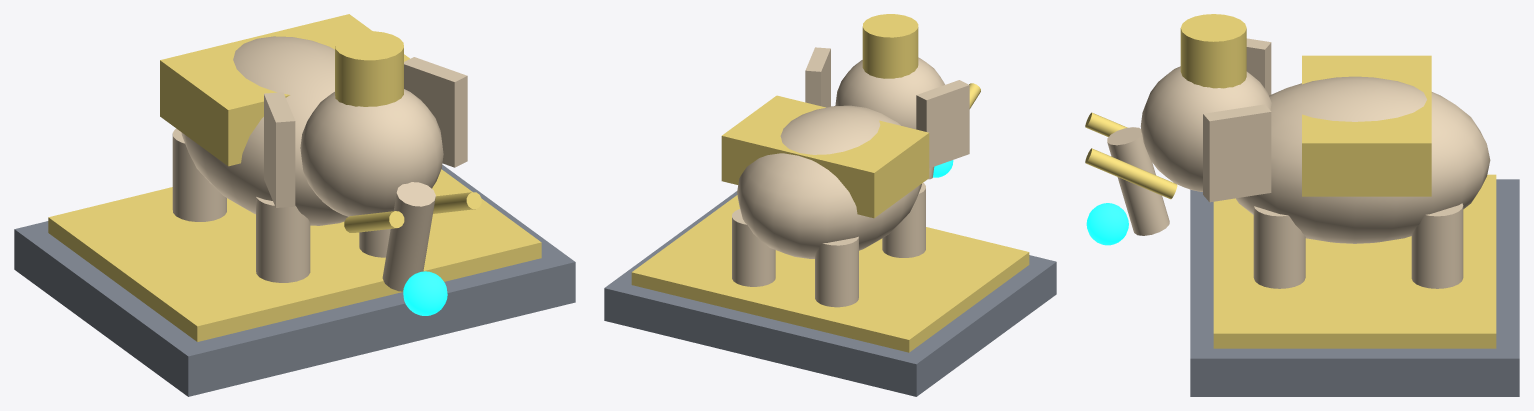
File: Celestial_Airavata_Sculpture.glb
3 views of the same model, side by side, from view 1: azimuth 30°, elevation 25°; view 2: azimuth 150°, elevation 25°; view 3: azimuth 270°, elevation 25° (orthographic). The views are drawn at different scales.
Visible parts, largest first — view 1: LotusTrim, Plinth, Head, Torso, Caparison, Crown, EarR, Leg_-0.024_0.032, Trunk, EarL, Leg_-0.024_-0.035, LotusBud (+3 smaller); view 2: LotusTrim, Plinth, Torso, Caparison, Head, EarL, Crown, Leg_-0.024_-0.035, Leg_0.024_-0.035, Leg_-0.024_0.032, EarR; view 3: LotusTrim, Plinth, Torso, Caparison, Head, EarR, Crown, Leg_0.024_-0.035, Leg_0.024_0.032, Trunk, TuskR, LotusBud (+2 smaller).
Boxes of the visible parts, x1,y1,x2,y2 form: LotusTrim: (48,169,541,341); Plinth: (14,165,575,396); Head: (300,89,443,216); Torso: (181,36,347,225); Caparison: (160,14,409,166); Crown: (335,31,403,106); EarR: (404,57,467,167); Leg_-0.024_0.032: (256,197,310,282); Trunk: (382,182,435,291); EarL: (264,92,295,207); Leg_-0.024_-0.035: (172,128,226,221); LotusBud: (403,271,447,315); LotusTrim: (631,195,1029,352); Plinth: (604,191,1056,396); Torso: (737,105,921,258); Caparison: (721,95,929,218); Head: (835,57,944,129); EarL: (916,80,969,168); Crown: (862,14,918,78); Leg_-0.024_-0.035: (815,236,858,307); Leg_0.024_-0.035: (732,209,775,286); Leg_-0.024_0.032: (882,183,925,257); EarR: (805,47,830,107); LotusTrim: (1213,174,1496,348); Plinth: (1190,179,1519,396); Torso: (1236,76,1490,243); Caparison: (1302,55,1431,196); Head: (1140,66,1271,191); EarR: (1203,104,1271,202); Crown: (1180,14,1246,88); Leg_0.024_-0.035: (1411,203,1463,288); Leg_0.024_0.032: (1253,206,1305,288); Trunk: (1107,127,1169,235); TuskR: (1085,148,1177,199); LotusBud: (1086,203,1128,245).
Bounding box in the file's own units: 0.18 × 0.131 × 0.1846.
